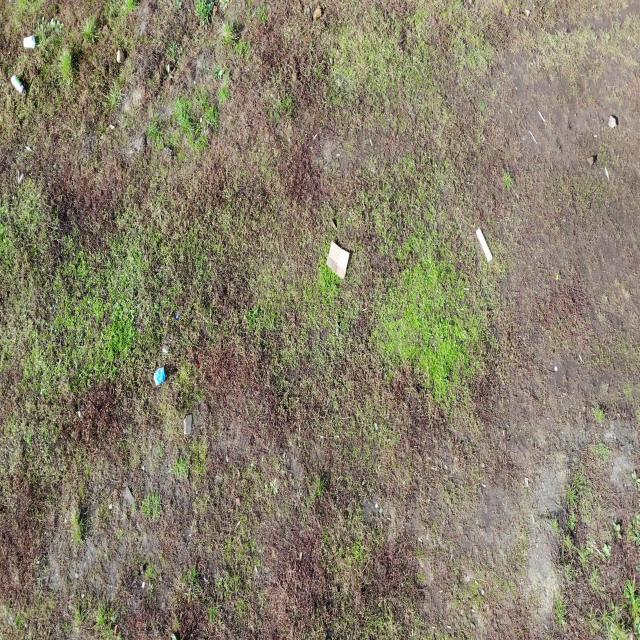rubbish: (325, 240, 350, 281), (473, 229, 494, 262), (9, 74, 27, 96), (153, 367, 166, 387), (23, 32, 36, 49)
